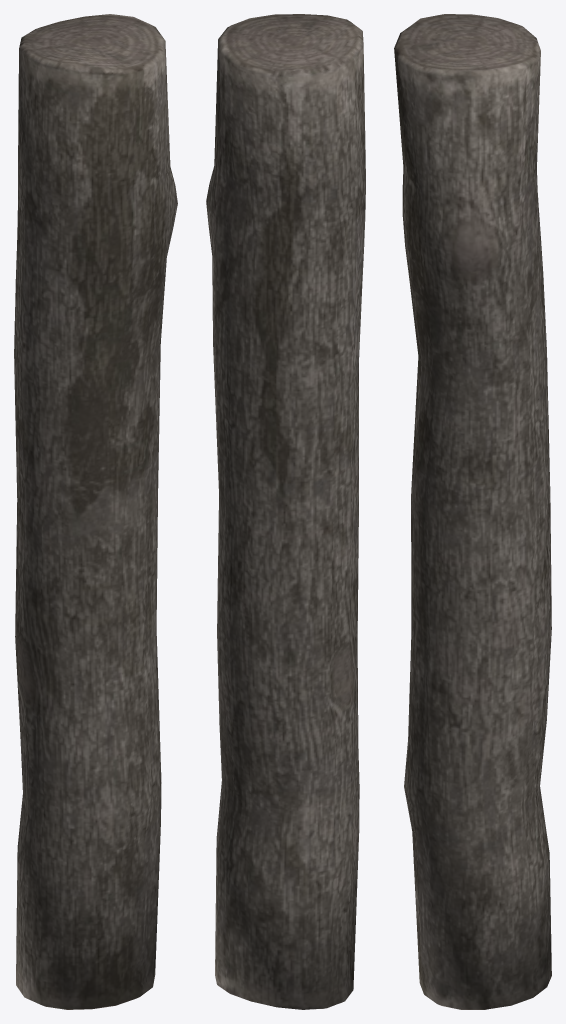
The model's file is fence_post_A.gltf.
The picture shows the model from 3 angles, left to right: view 1: azimuth 30°, elevation 25°; view 2: azimuth 150°, elevation 25°; view 3: azimuth 270°, elevation 25°; orthographic projection.
Parts seen in each view (by area): view 1: WoodenFence_Post_A_LOD1; view 2: WoodenFence_Post_A_LOD1; view 3: WoodenFence_Post_A_LOD1.
Part boxes in pixels (x1,y1,x2,y2): WoodenFence_Post_A_LOD1: [14, 14, 177, 1009]; WoodenFence_Post_A_LOD1: [206, 14, 365, 1009]; WoodenFence_Post_A_LOD1: [394, 14, 551, 1009].
Bounding box in the file's own units: 0.1765 × 1.08 × 0.1634.
1 material, 1 textured.
